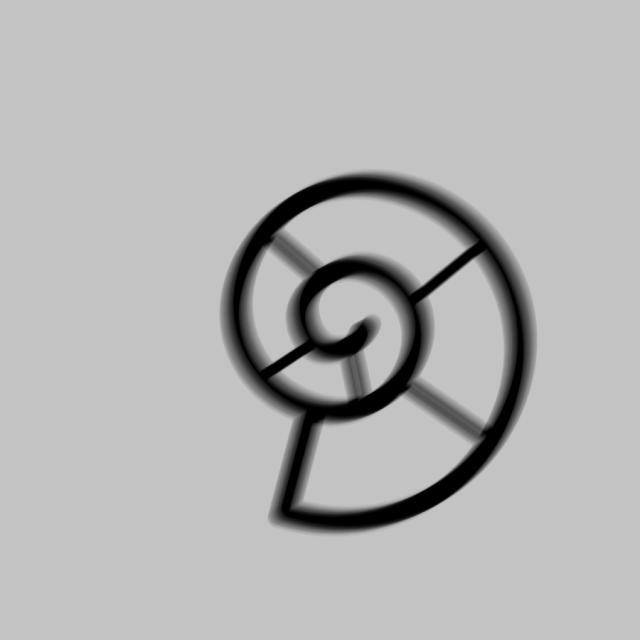fossil: (213, 167, 543, 541)
